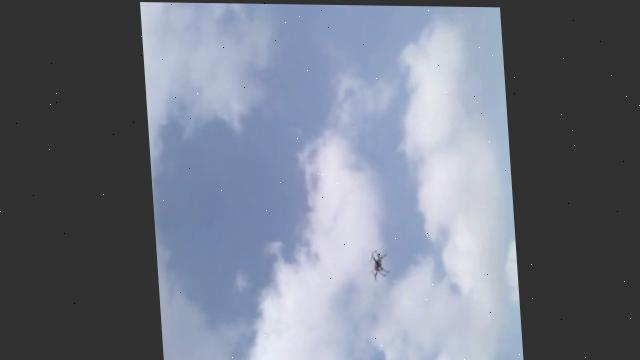drone: (362, 247, 389, 282)
